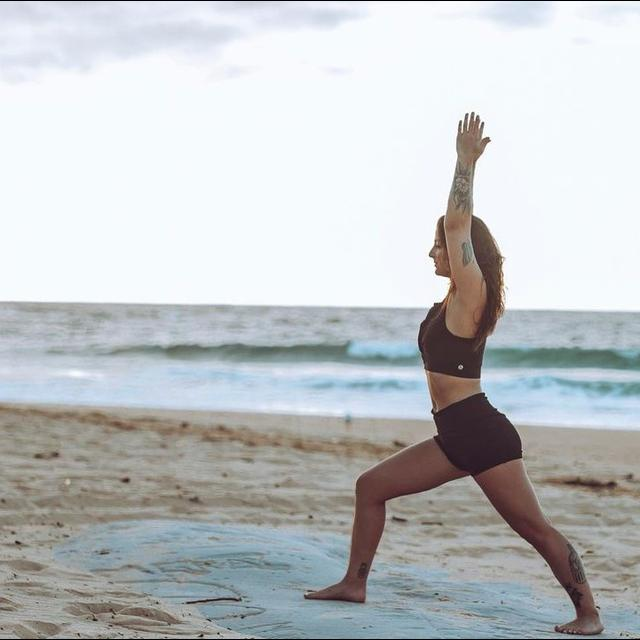Warrior_I: (296, 91, 605, 640)
